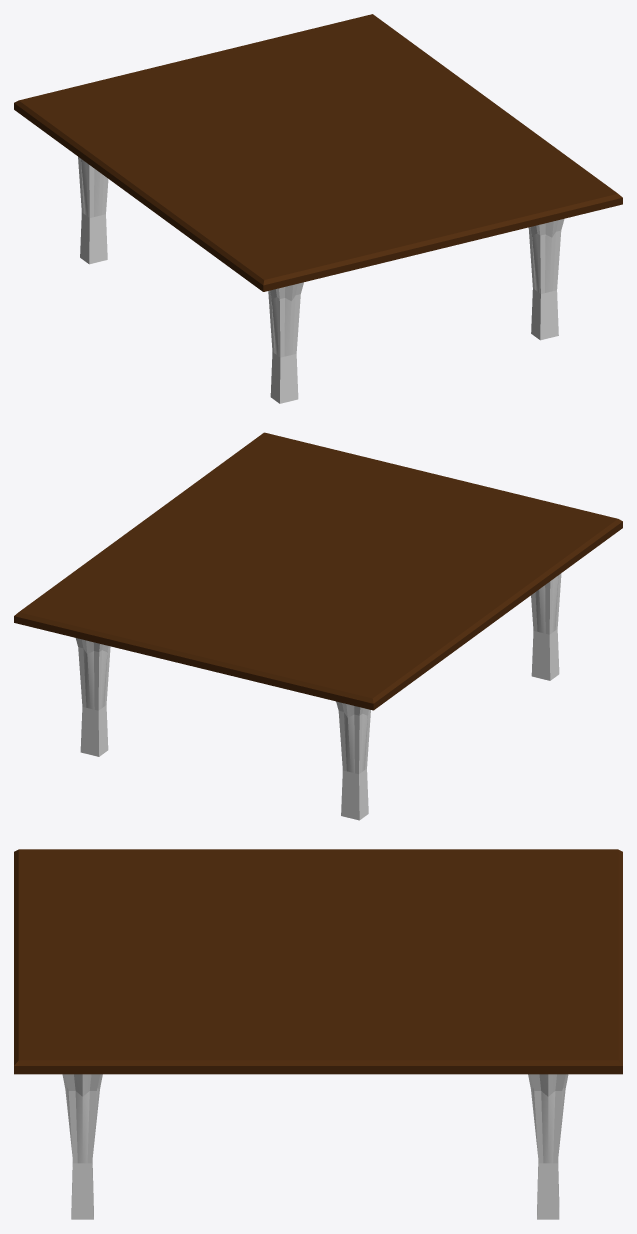
File: Table (1).fbx
3 views of the same model, one above another, from view 1: azimuth 30°, elevation 25°; view 2: azimuth 150°, elevation 25°; view 3: azimuth 270°, elevation 25° (orthographic). The views are drawn at different scales.
Visible parts, largest first — view 1: Table__1_; view 2: Table__1_; view 3: Table__1_.
Boxes of the visible parts, left/top/right/bottom form: Table__1_: left=14, top=14, right=622, bottom=403; Table__1_: left=14, top=432, right=622, bottom=820; Table__1_: left=14, top=849, right=622, bottom=1219.
Bounding box in the file's own units: 763 × 301 × 916.
